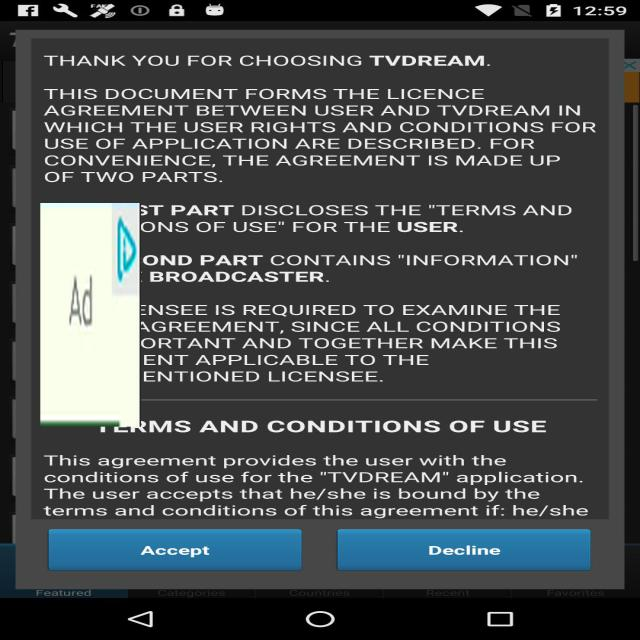sneaking: (40, 203, 141, 427)
